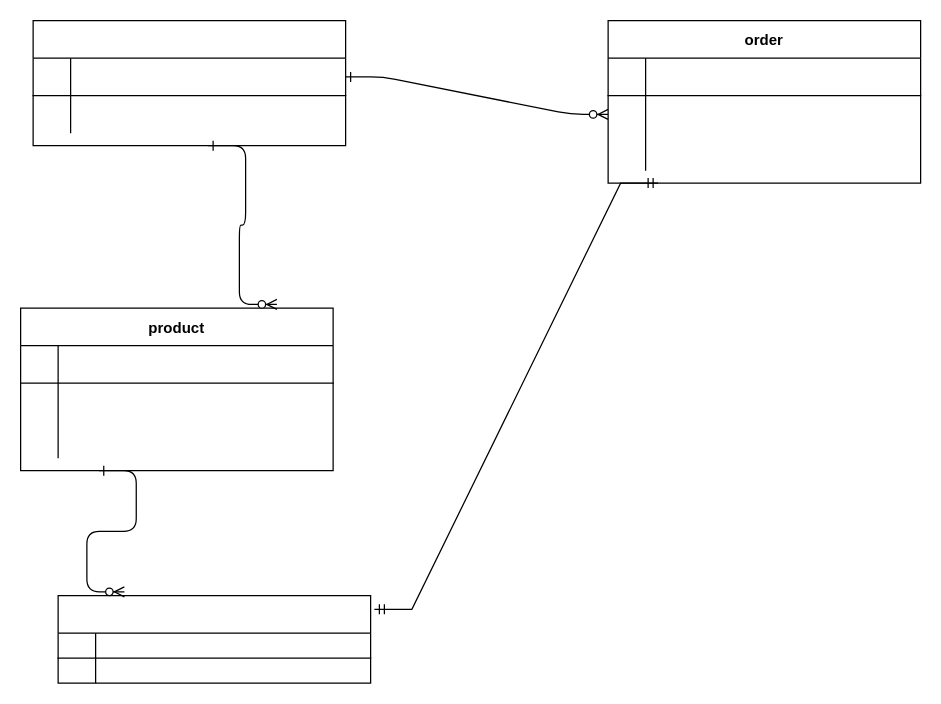
This 941x704 diagram has some shape labels left out. The centre of each missing label's shape, as x and y in pixels:
detailOrder: (214,638)
user: (189,82)
